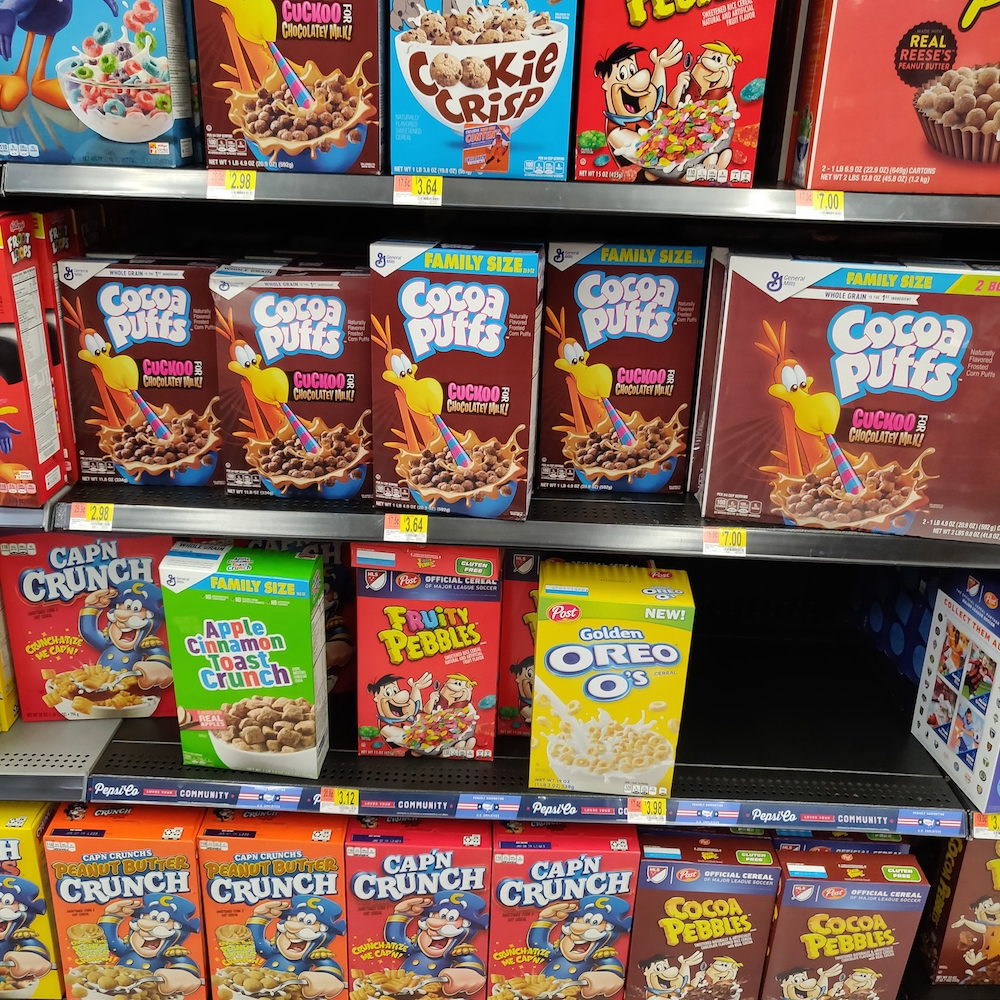Cocoa Pebbles-555517893: (774, 846, 919, 995), (639, 854, 770, 1000)
Oreo Golden-568301011: (533, 573, 684, 798)
